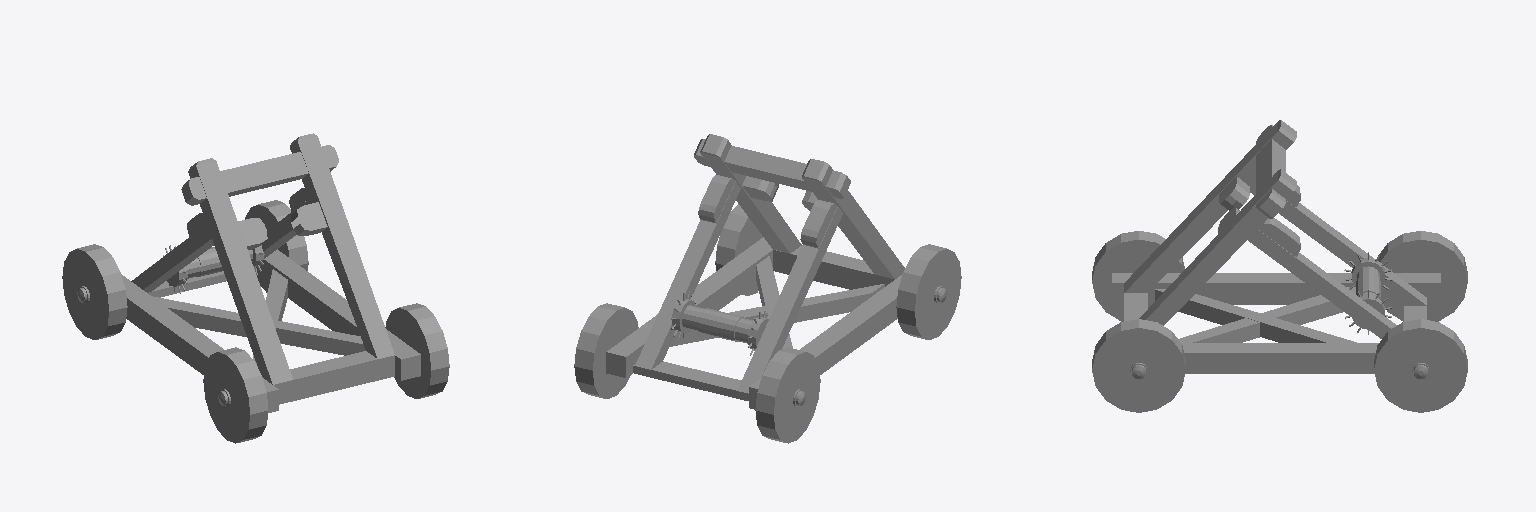
File: catapult_0.obj
3 renders of one model, left to right at view 1: azimuth 30°, elevation 25°; view 2: azimuth 150°, elevation 25°; view 3: azimuth 270°, elevation 25°, orthographic.
Visible parts, largest first — view 1: CatapultStandLeftFront, CatapultStandRightFront, WheelLeftFront, WheelLeftBack, CatapultBaseRight, CatapultBaseLeft, WheelRightFront, CatapultBottom1, CatapultBaseFront, CatapultBlock, CatapultStandLeftBack, WheelRightBack (+6 smaller); view 2: WheelLeftBack, WheelLeftFront, CatapultBaseRight, CatapultStandLeftBack, CatapultStandRightBack, WheelRightBack, CatapultBaseLeft, CatapultStandLeftFront, CatapultStandRightFront, CatapultBlock, Release, CatapultBottom2 (+7 smaller); view 3: WheelRightBack, WheelRightFront, CatapultBaseRight, CatapultBaseLeft, CatapultStandLeftFront, CatapultStandRightFront, WheelLeftBack, CatapultStandRightBack, WheelLeftFront, CatapultBottom2, CatapultStandLeftBack, CatapultBottom1 (+5 smaller).
Part boxes in pixels (bbox=[...]): CatapultStandLeftFront: bbox=[188, 158, 292, 384]; CatapultStandRightFront: bbox=[290, 133, 394, 358]; WheelLeftFront: bbox=[203, 347, 268, 443]; WheelLeftBack: bbox=[62, 244, 127, 339]; CatapultBaseRight: bbox=[256, 249, 420, 380]; CatapultBaseLeft: bbox=[121, 274, 278, 412]; WheelRightFront: bbox=[385, 303, 449, 398]; CatapultBottom1: bbox=[152, 296, 365, 355]; CatapultBaseFront: bbox=[274, 351, 394, 404]; CatapultBlock: bbox=[181, 145, 338, 205]; CatapultStandLeftBack: bbox=[131, 224, 213, 292]; WheelRightBack: bbox=[245, 200, 308, 292]; WheelLeftBack: bbox=[755, 347, 820, 443]; WheelLeftFront: bbox=[896, 244, 961, 339]; CatapultBaseRight: bbox=[606, 237, 772, 377]; CatapultStandLeftBack: bbox=[737, 207, 842, 393]; CatapultStandRightBack: bbox=[635, 181, 740, 369]; WheelRightBack: bbox=[574, 303, 638, 398]; CatapultBaseLeft: bbox=[749, 274, 902, 409]; CatapultStandLeftFront: bbox=[802, 159, 904, 278]; CatapultStandRightFront: bbox=[700, 134, 801, 253]; CatapultBlock: bbox=[694, 139, 850, 198]; Release: bbox=[672, 299, 768, 350]; CatapultBottom2: bbox=[670, 284, 884, 346]; WheelRightBack: bbox=[1374, 319, 1467, 412]; WheelRightFront: bbox=[1092, 319, 1185, 412]; CatapultBaseRight: bbox=[1181, 343, 1378, 373]; CatapultBaseLeft: bbox=[1112, 273, 1440, 304]; CatapultStandLeftFront: bbox=[1124, 120, 1296, 292]; CatapultStandRightFront: bbox=[1139, 169, 1296, 325]; WheelLeftBack: bbox=[1378, 231, 1467, 321]; CatapultStandRightBack: bbox=[1248, 230, 1396, 338]; WheelLeftFront: bbox=[1092, 231, 1184, 321]; CatapultBottom2: bbox=[1155, 289, 1356, 342]; CatapultStandLeftBack: bbox=[1250, 182, 1426, 305]; CatapultBottom1: bbox=[1178, 287, 1355, 342].
Bounding box in the file's own units: 1.97 × 1.93 × 3.03.